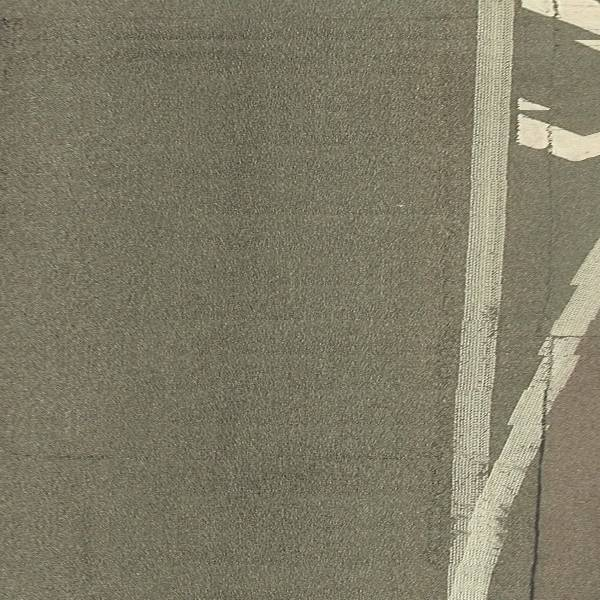road_damage: (419, 321, 454, 569), (527, 389, 553, 600), (3, 449, 116, 465)
